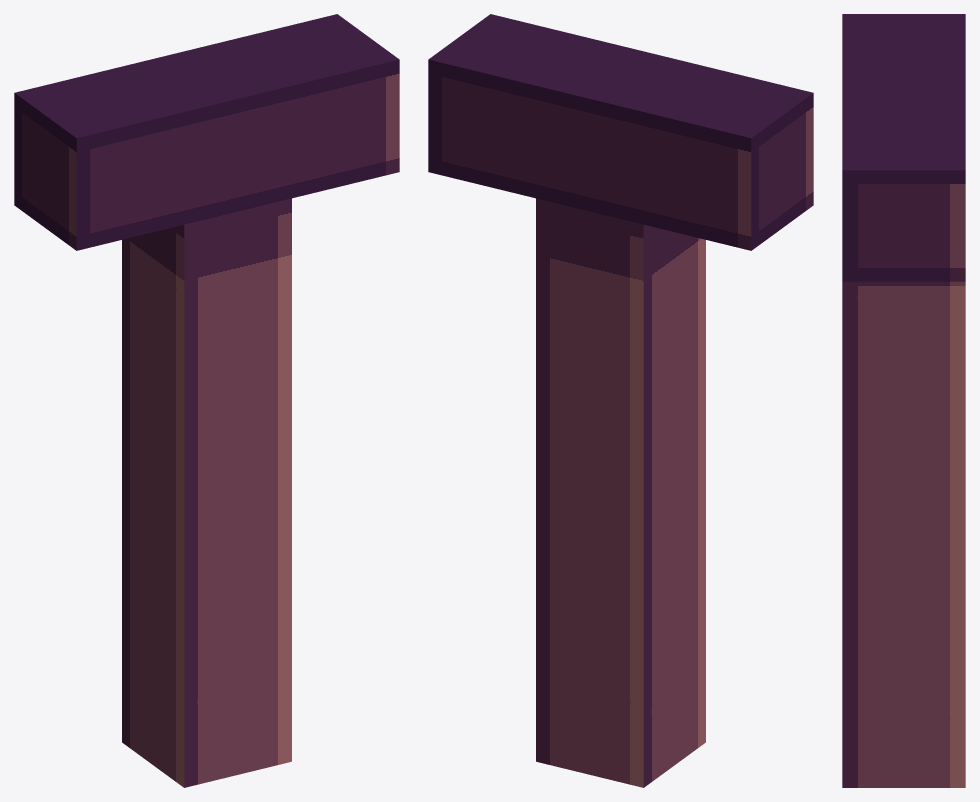
The model's file is waterfall_support_bao.fezao.glb.
The picture shows the model from 3 angles, left to right: view 1: azimuth 30°, elevation 25°; view 2: azimuth 150°, elevation 25°; view 3: azimuth 270°, elevation 25°; orthographic projection.
Visible parts, largest first — view 1: WATERFALL_SUPPORT_BAO; view 2: WATERFALL_SUPPORT_BAO; view 3: WATERFALL_SUPPORT_BAO.
Part boxes in pixels (x1,y1,x2,y2): WATERFALL_SUPPORT_BAO: [14, 14, 399, 787]; WATERFALL_SUPPORT_BAO: [428, 14, 813, 787]; WATERFALL_SUPPORT_BAO: [842, 14, 965, 787].
Size of the model in its own units: 1.5 by 3 by 0.5.
1 material, 1 textured.
